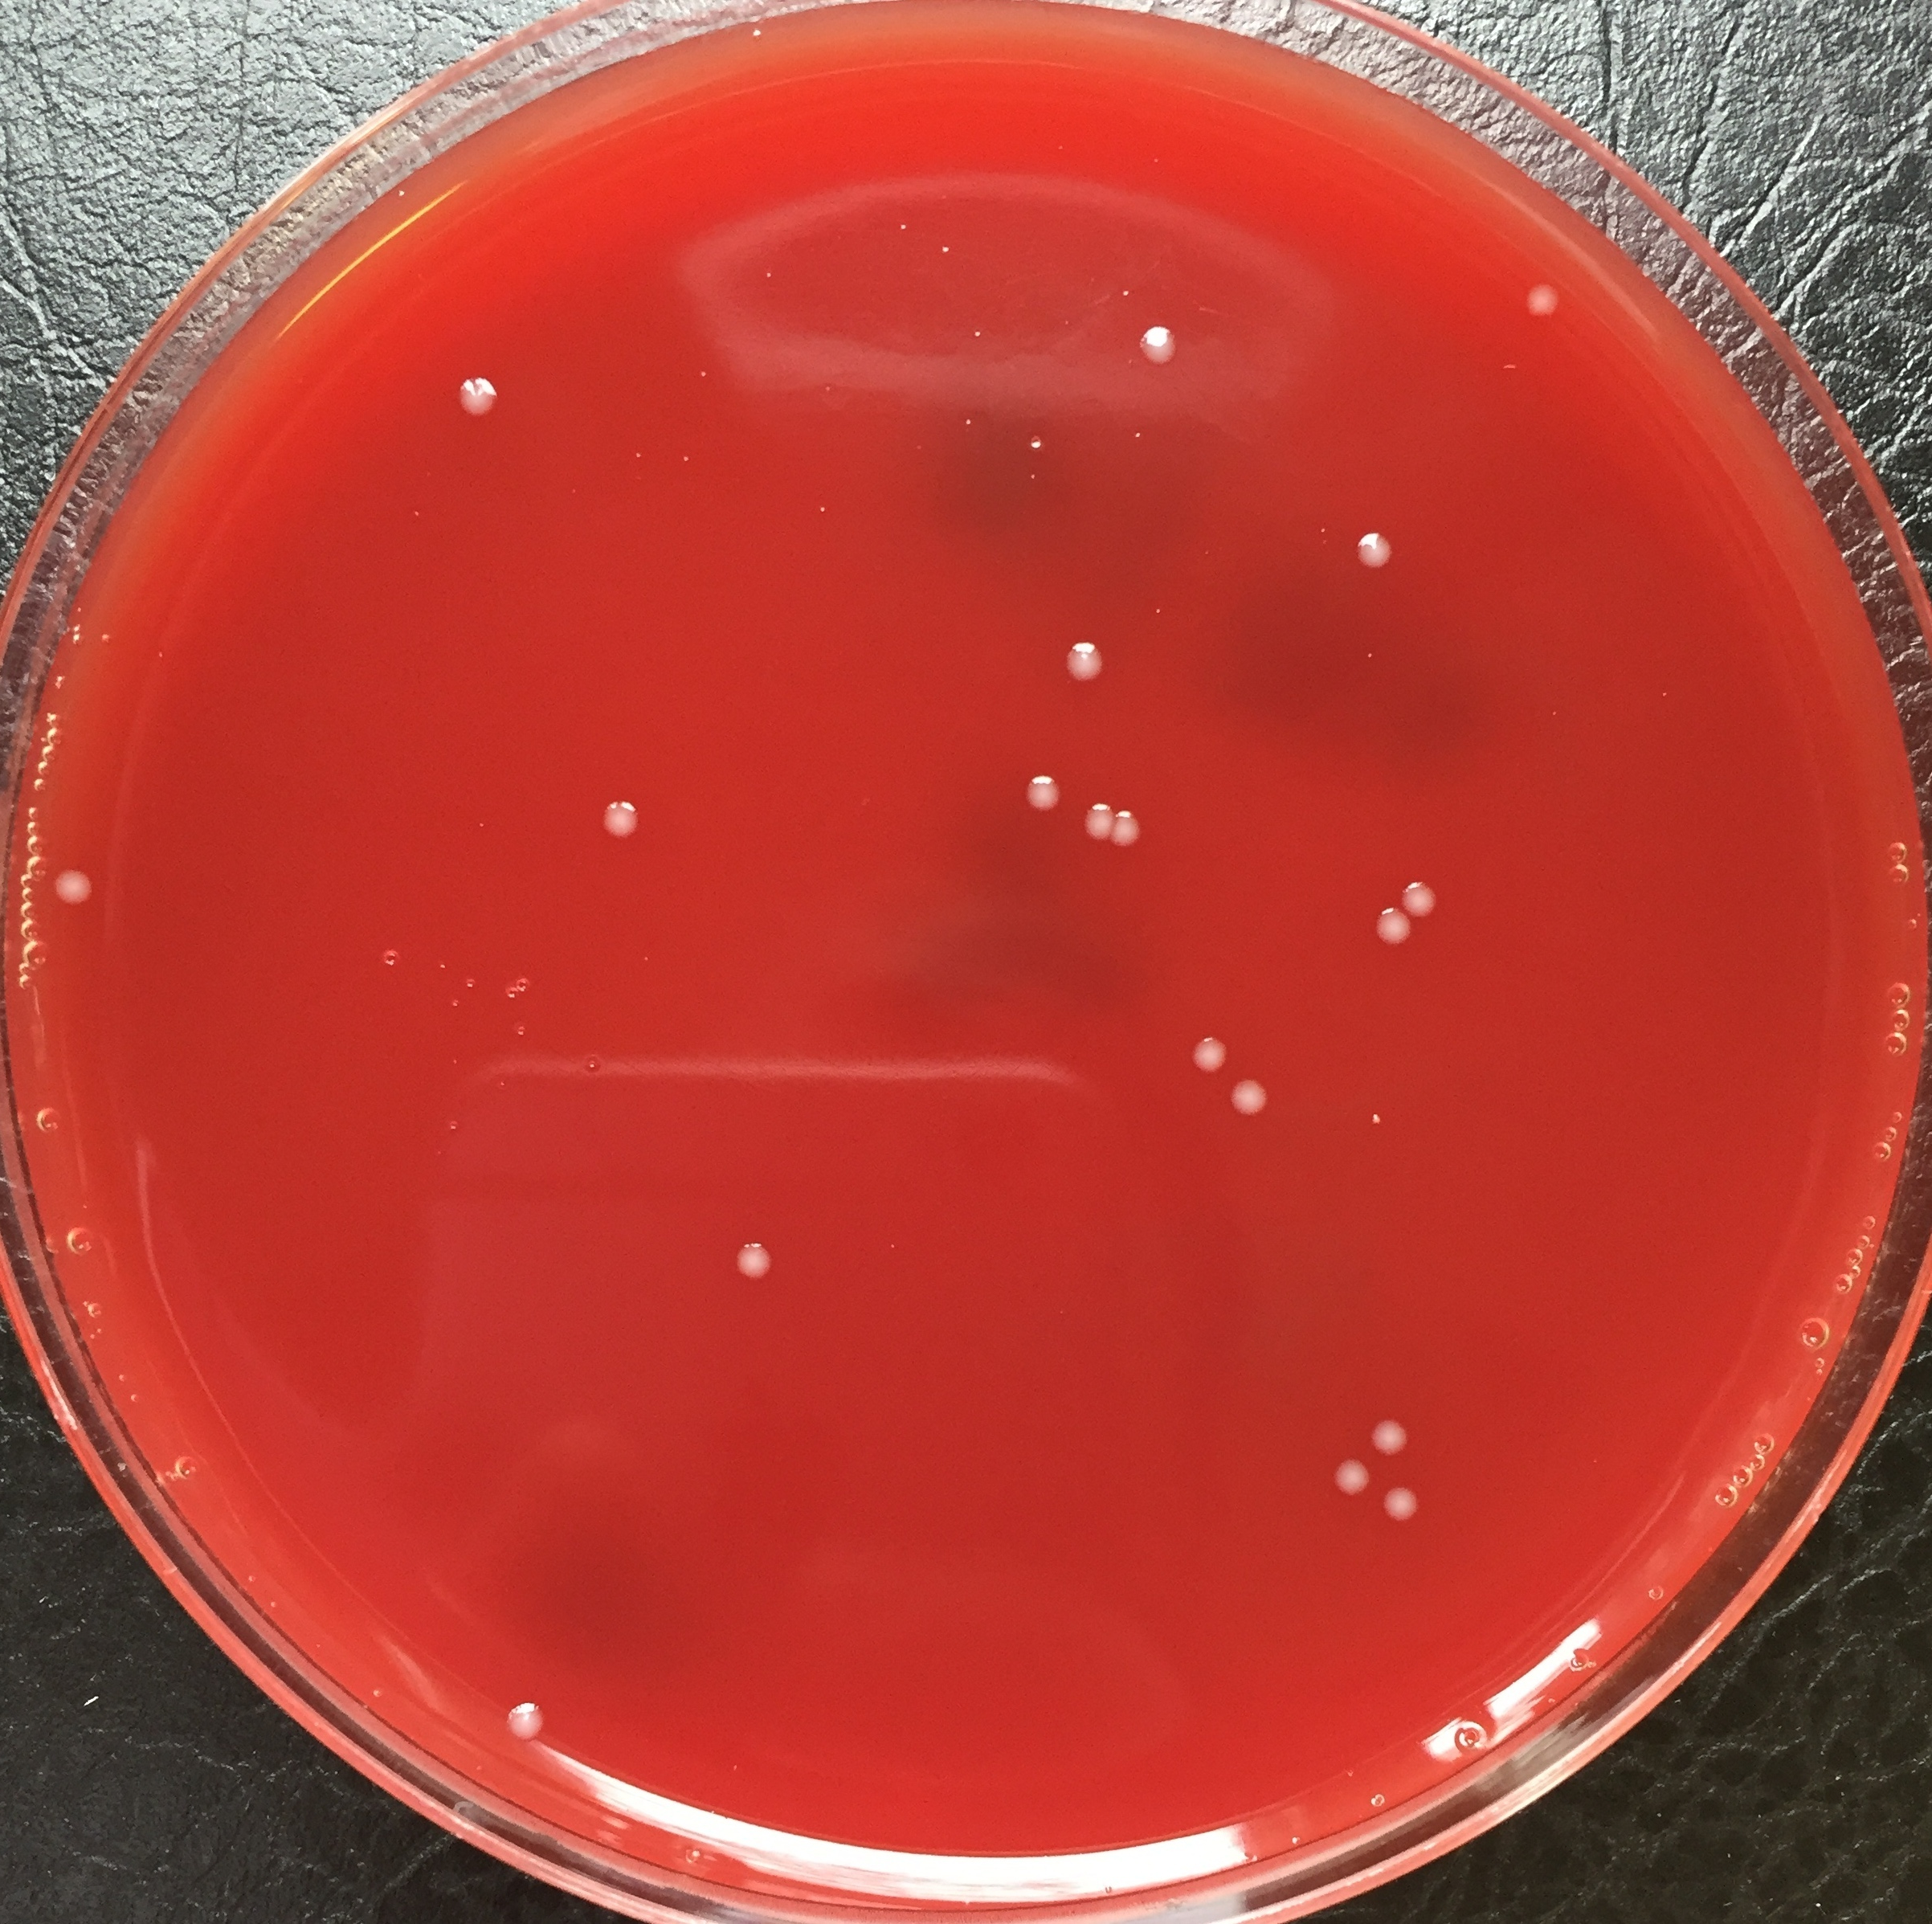sp14: (37, 844, 111, 925), (590, 784, 653, 863), (1048, 631, 1120, 699), (449, 365, 505, 437), (1511, 275, 1573, 340), (1122, 319, 1187, 381), (1342, 520, 1398, 580), (724, 1235, 780, 1293), (498, 1690, 555, 1748), (1377, 1476, 1427, 1540), (1184, 1018, 1231, 1078), (1319, 1455, 1374, 1506), (1224, 1075, 1273, 1131), (1354, 900, 1404, 955), (1113, 802, 1155, 863), (1402, 865, 1448, 920), (1080, 786, 1118, 849), (1020, 763, 1062, 818), (1372, 1406, 1412, 1455)
